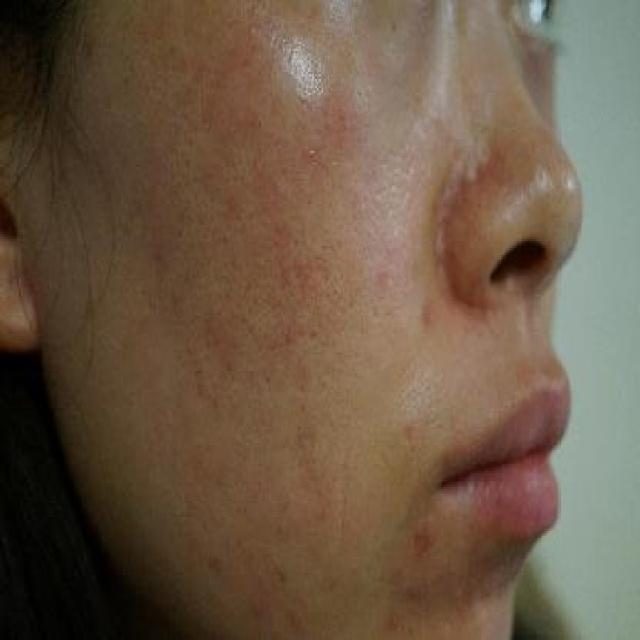Acne: (398, 510, 444, 557), (409, 295, 440, 336), (378, 600, 409, 640), (199, 547, 226, 582)
